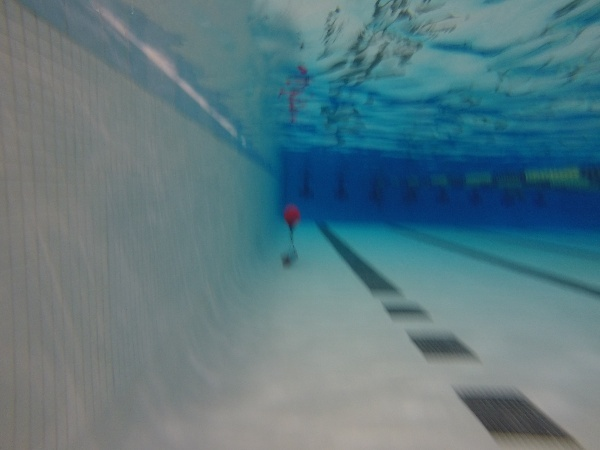buoy_red: (281, 205, 302, 231)
